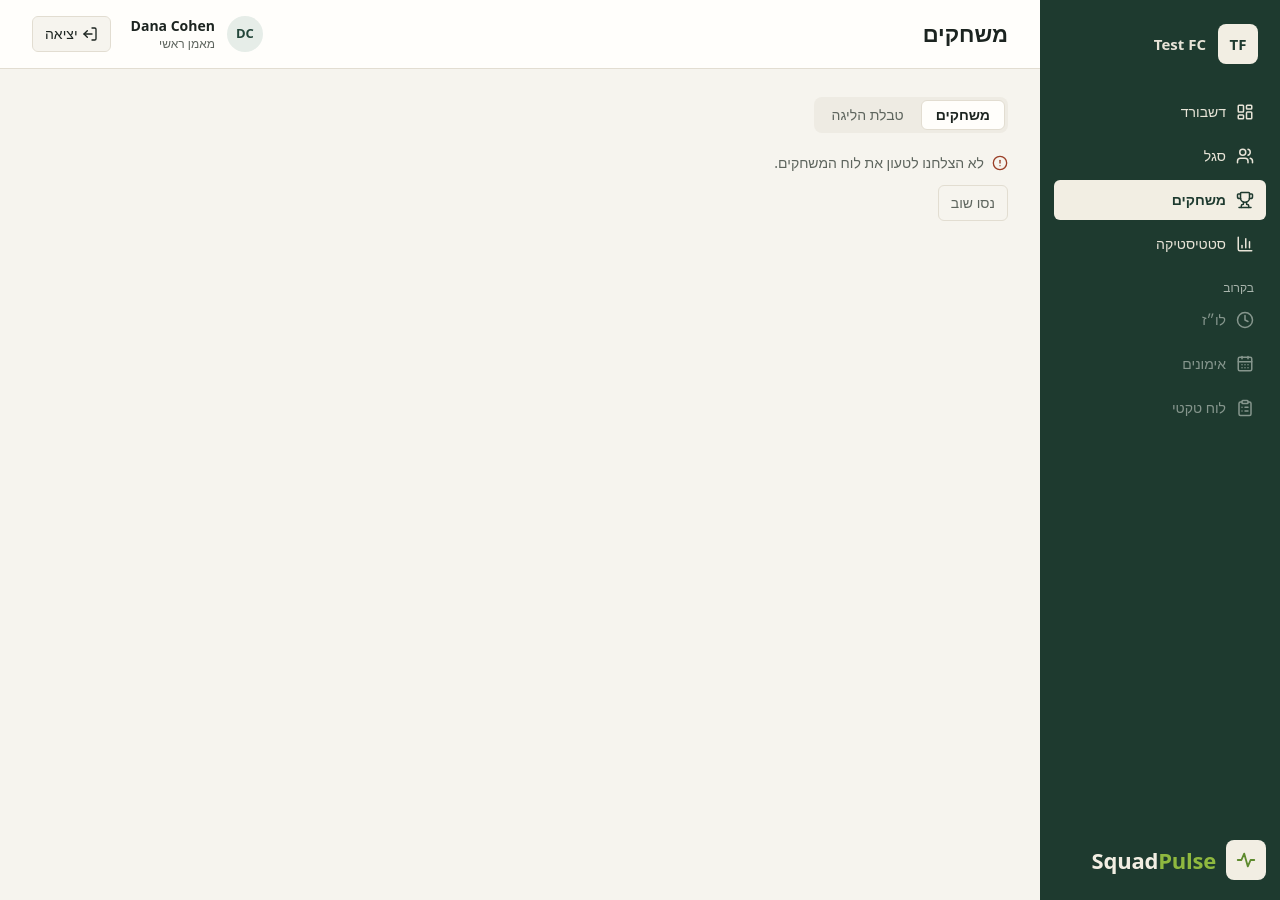
the matches screen's states › shows a read's error with a retry
Expected: the heading "משחקים" is shown, 923,20 -> 1008,48
Expected: the text "לא הצלחנו לטעון את לוח המשחקים." is shown, 774,153 -> 1008,173
Step 1. Click the radio button labelled "טבלת הליגה" → coordinates (868, 114), box 832,105 -> 904,124
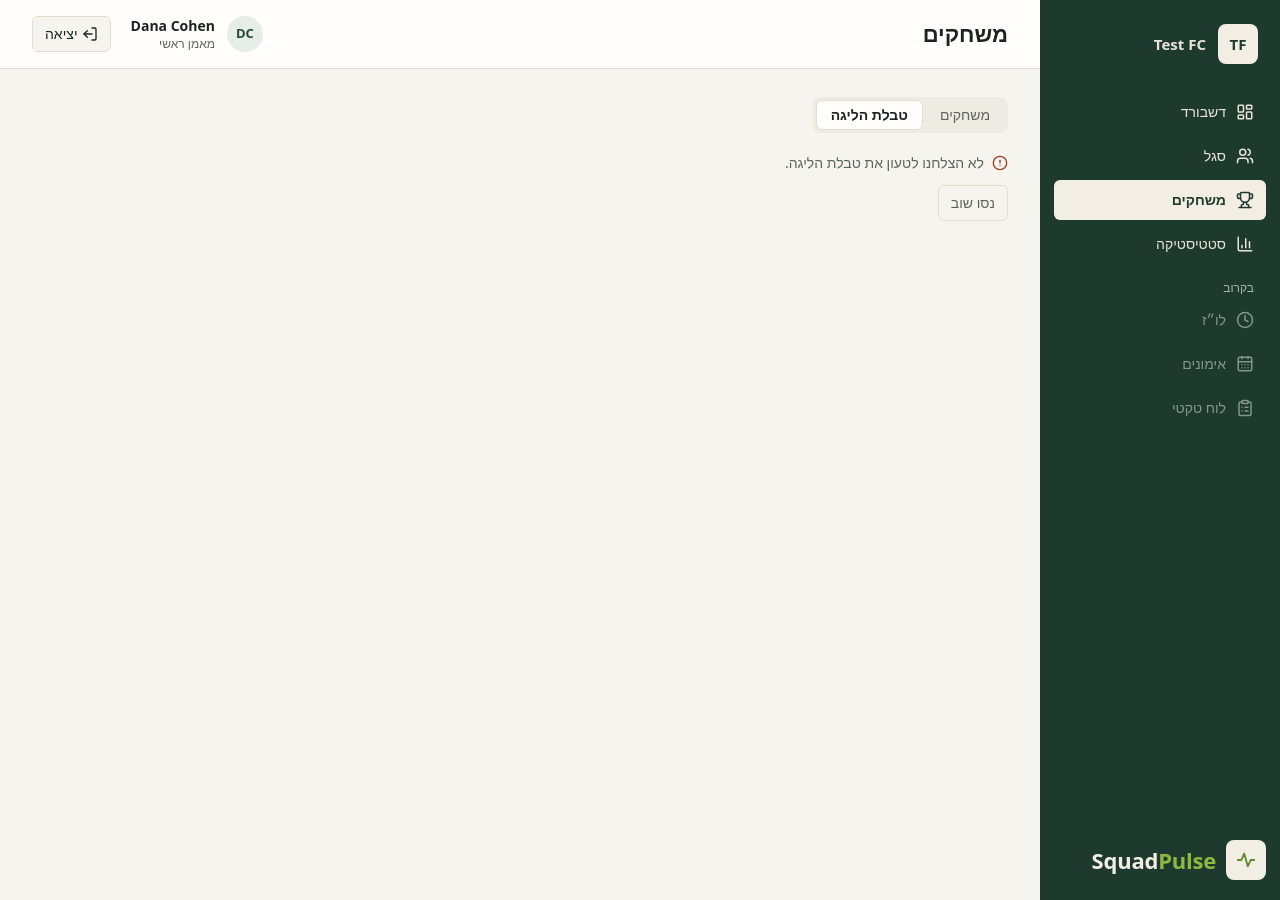
Expected: the text "לא הצלחנו לטעון את טבלת הליגה." is shown, 785,153 -> 1008,173
